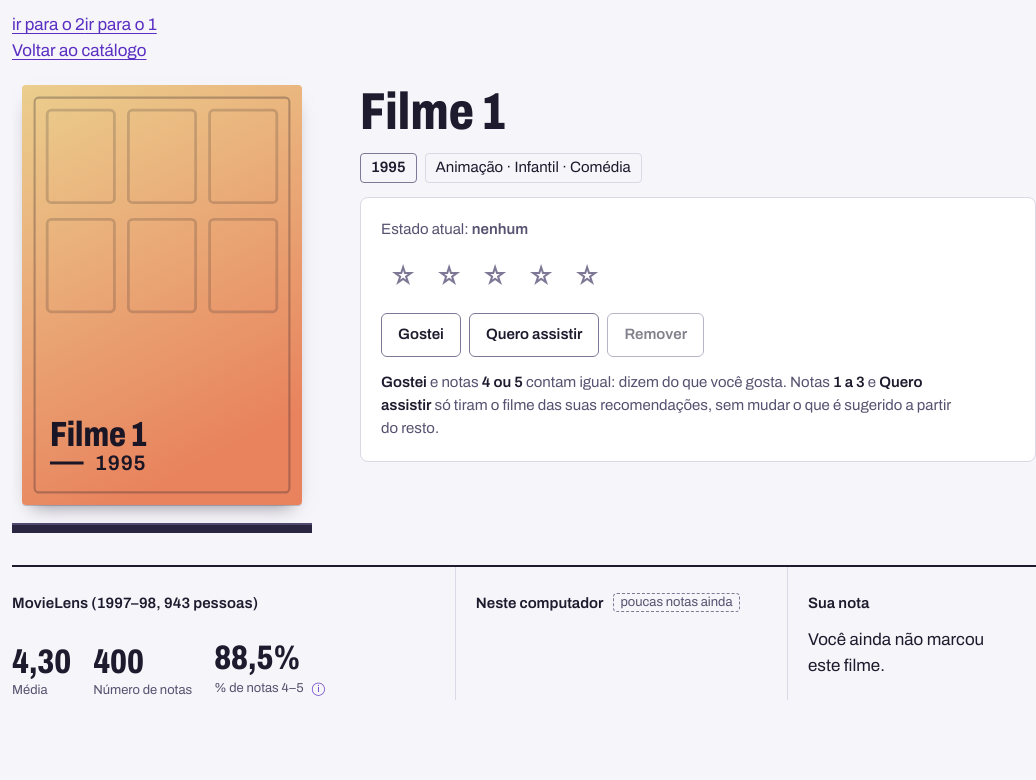
it: DetalheFilme: "Neste computador" depois de uma escrita › corrida: a recarga de A atrasada não sobrescreve a carga nova de A depois de ir a B e voltar
Expected: the heading "Filme 1" is shown, [360,83,506,140]
Click the radio button named "4 de 5 estrelas" at (541, 277), box [519,255,563,299]
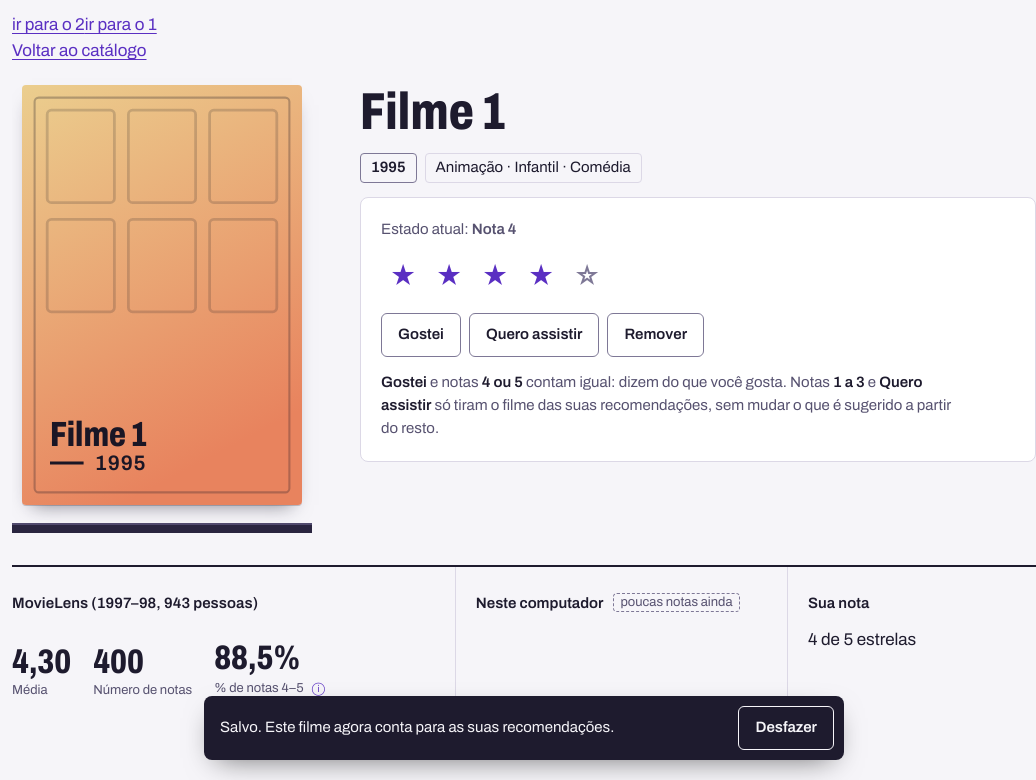
Click the link "ir para o 2" at (48, 24), box [12,15,85,34]
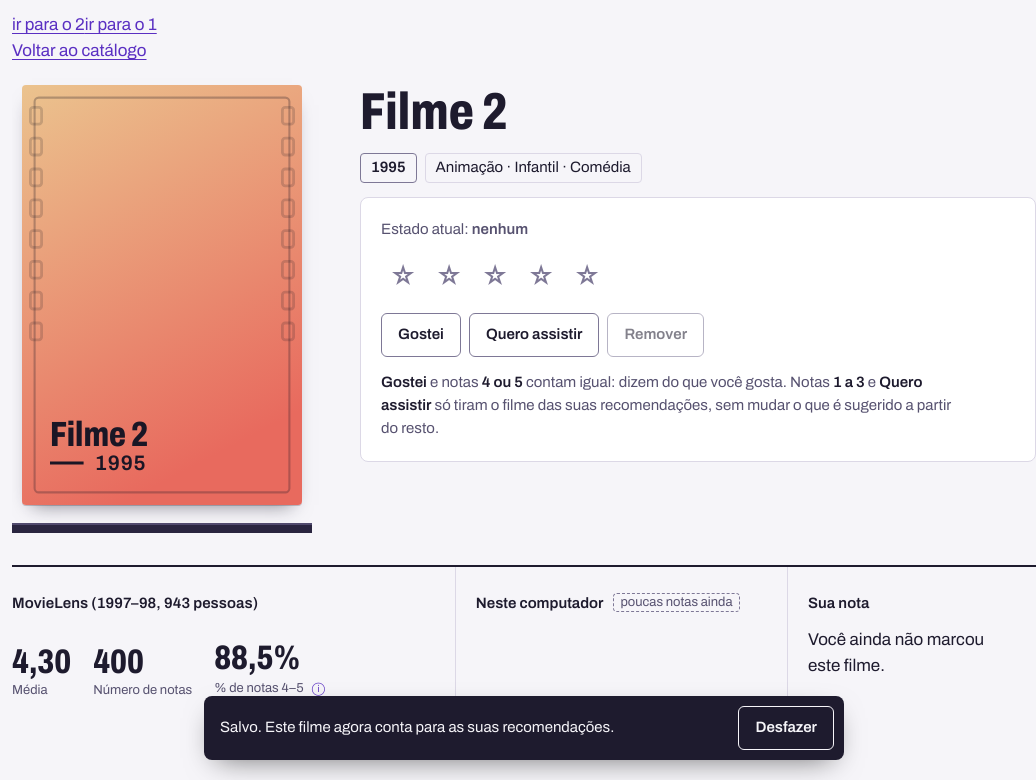
Result: the heading "Filme 2" is shown at [360,83,508,140]
Click the link "ir para o 1" at (121, 24), box [85,15,157,34]
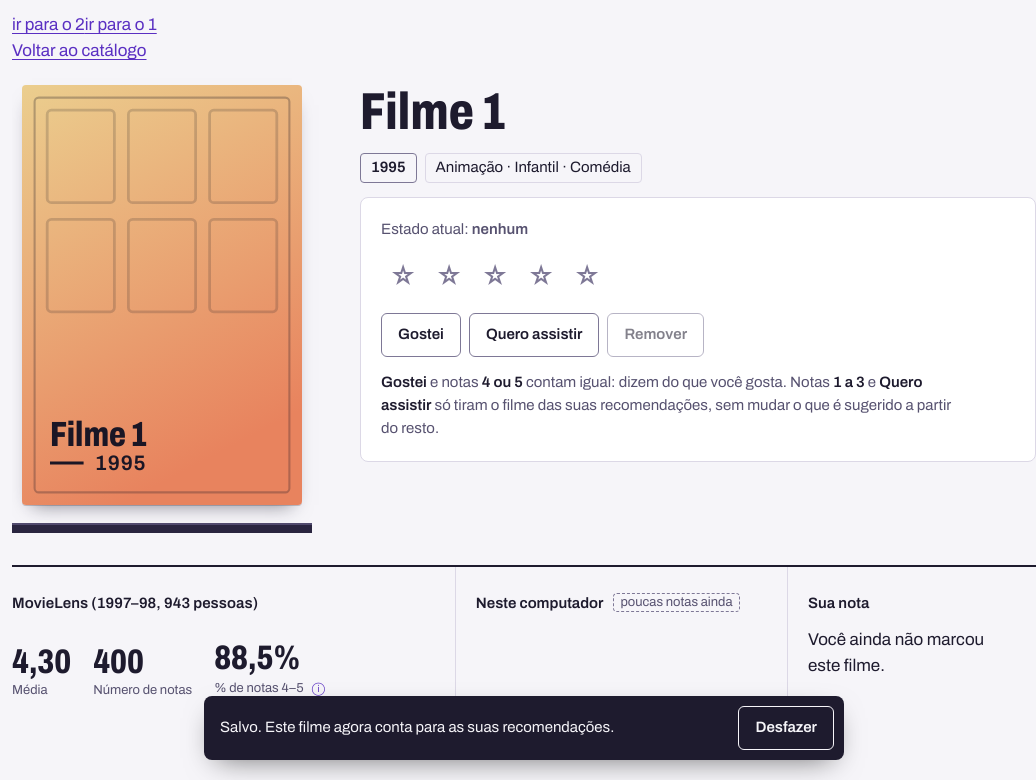
Result: the heading "Filme 1" is shown at [360,83,506,140]
